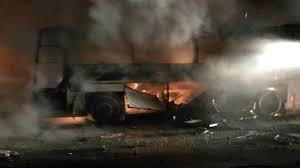fire: (103, 71, 210, 117)
